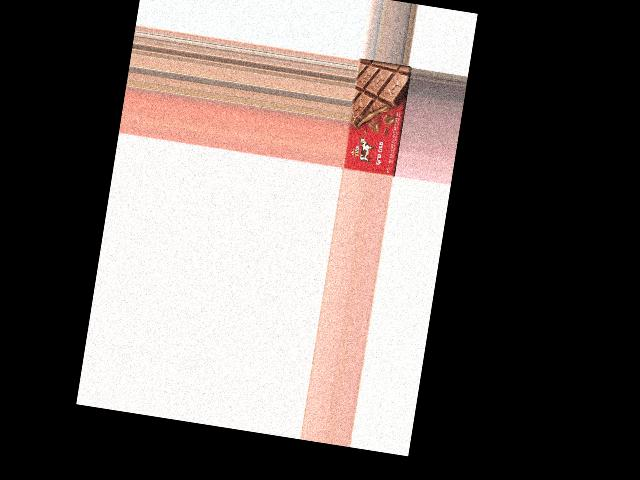chocolate: (341, 59, 411, 178)
